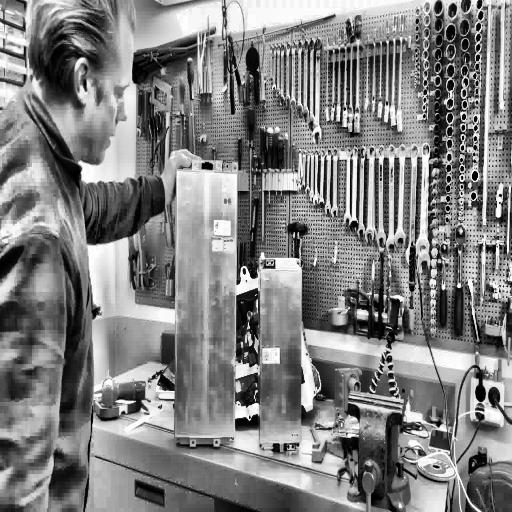battery_module: (176, 169, 236, 439), (260, 268, 302, 444)
